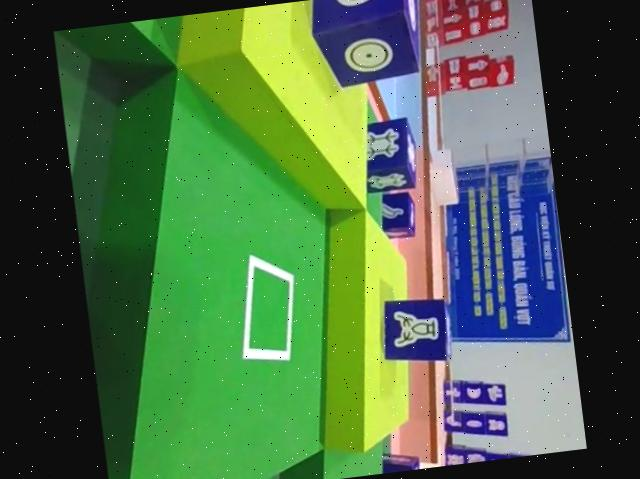R2 Real Blue: (305, 0, 426, 86), (375, 290, 455, 365), (357, 115, 421, 194), (377, 186, 420, 240), (375, 446, 418, 474)
